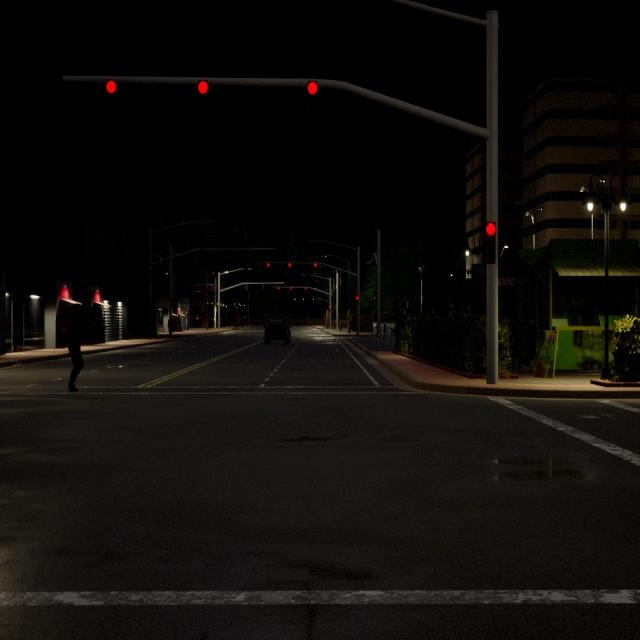Pedestrian: (68, 302, 84, 391), (167, 314, 174, 338)
Vehicle: (264, 320, 292, 343)
traffic_light: (484, 221, 497, 265), (106, 79, 116, 95), (198, 79, 208, 95), (308, 80, 318, 96), (356, 295, 360, 301), (288, 263, 292, 267), (267, 262, 270, 267), (314, 262, 317, 267), (328, 306, 331, 309), (304, 287, 306, 290), (290, 287, 292, 290), (278, 287, 280, 290), (159, 258, 162, 260), (294, 298, 296, 300), (302, 299, 304, 301), (313, 298, 314, 301)
